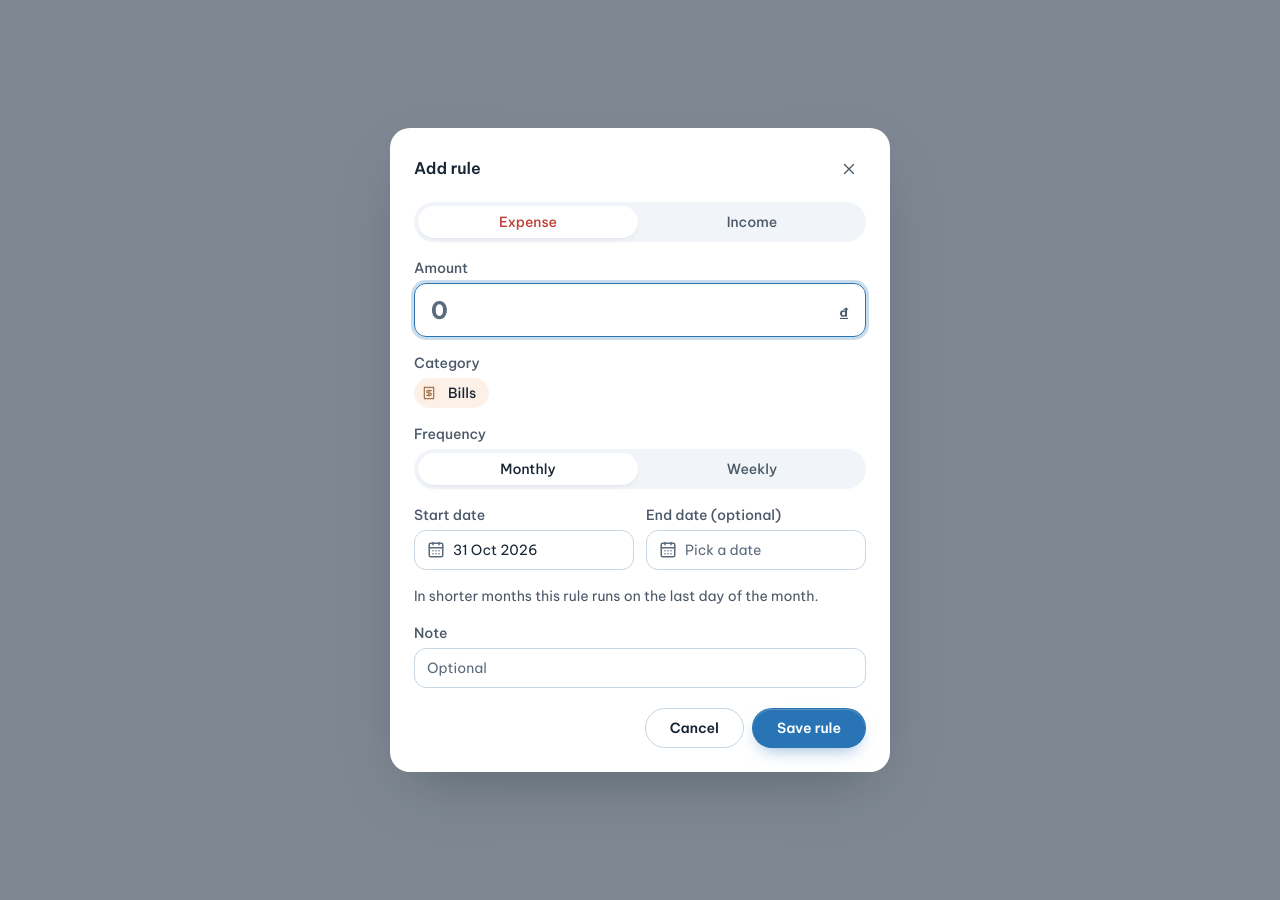
Test: RuleFormDialog › only offers the categories of the chosen type
This screenshot has width=1280, height=900.
expect the button "Salary" is not shown: met
Click the button "Income": (752, 222) 642,206 -> 862,238
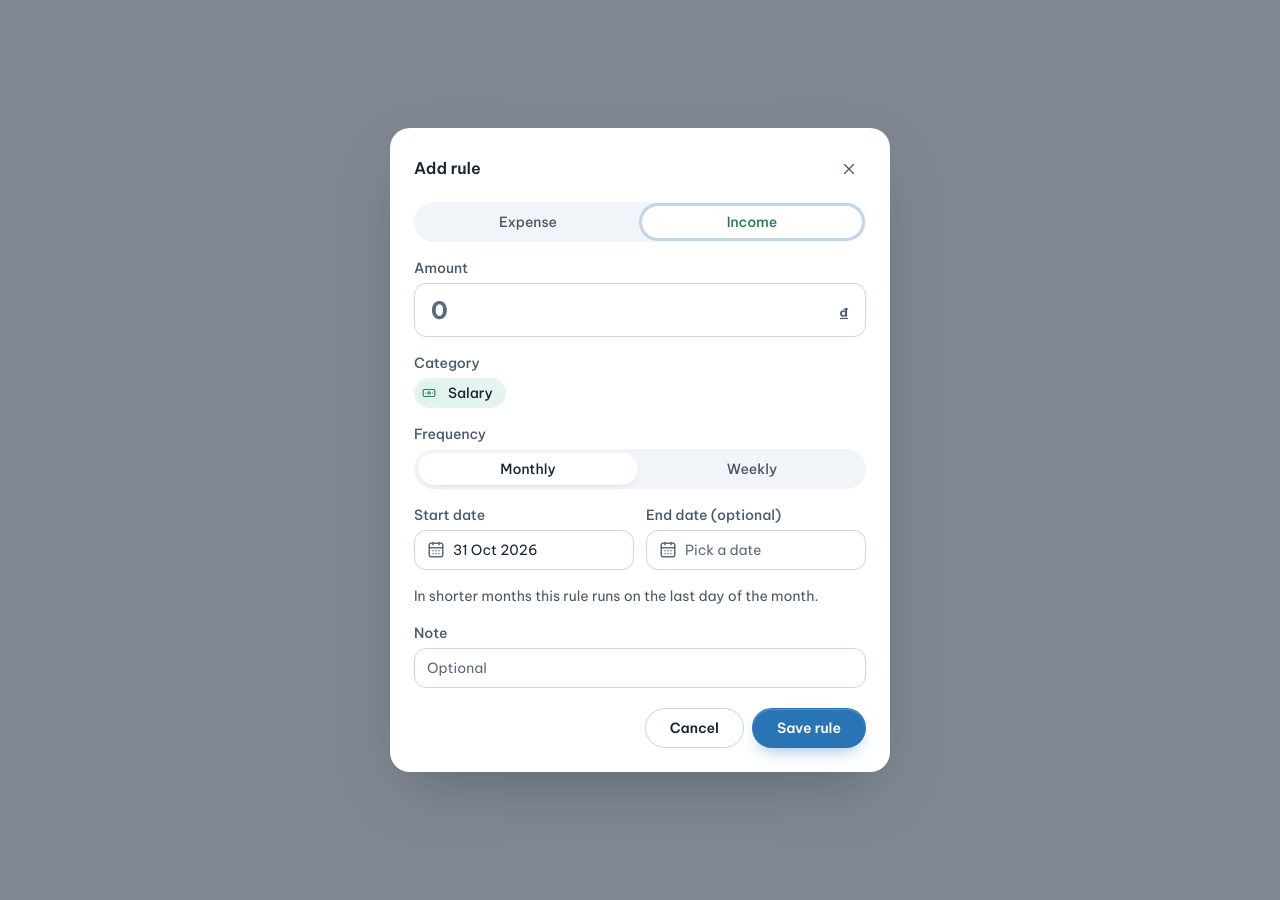
expect the button "Salary" is shown: met, box 414,378 -> 506,408
expect the button "Bills" is gone: met
